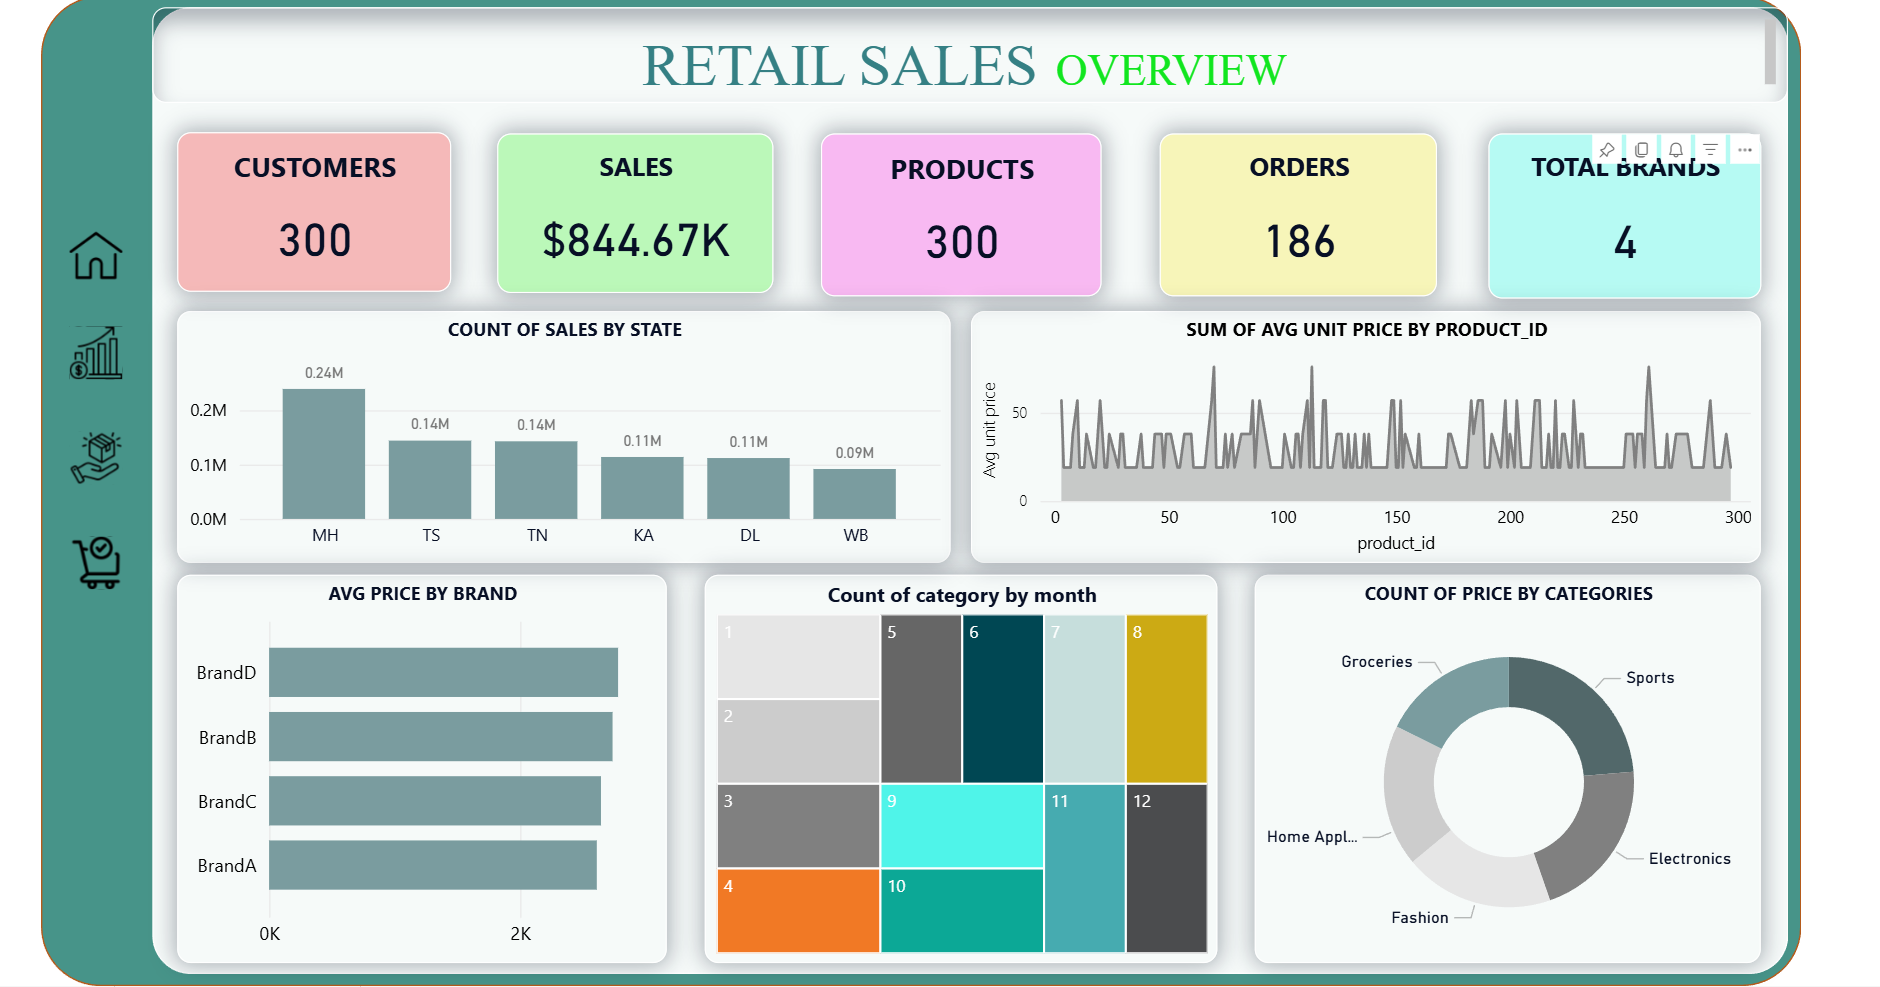

The dashboard page shown, as its layout file describes it:
{"tool":"powerbi","page":{"name":"Home","canvas":[1280,720],"ordinal":0},"visuals":[{"type":"group","id":"g1","title":"Group 1","box":[0,0,1280.3,720.1],"z":0},{"type":"shape","box":[0,0,1280.3,720.1],"z":0,"group":"g1"},{"type":"shape","box":[80.7,8.6,1189.8,703.1],"z":1000,"group":"g1"},{"type":"textbox","box":[80.7,8.6,1189.8,69.7],"z":1000},{"type":"card","title":"CUSTOMERS","fields":{"Values":["CountNonNull(customers (1).customer_id)"]},"box":[99,99,199.3,116.2],"z":2000},{"type":"actionButton","box":[0,165.1,80.7,46.5],"z":2000,"group":"g1"},{"type":"card","title":"PRODUCTS","fields":{"Values":["CountNonNull(products (1).product_id)"]},"box":[567.4,100.3,204.2,118.6],"z":3000},{"type":"columnChart","title":"COUNT OF SALES BY STATE","fields":{"Category":["customers (1).state"],"Y":["Sum(order_items (1).unit_price)"]},"box":[99,228.7,562.5,183.4],"z":3000,"group":"g1"},{"type":"card","title":"SALES","fields":{"Values":["Sum(order_items (1).unit_price)"]},"box":[331.4,100.3,200.5,116.2],"z":4000},{"type":"actionButton","box":[0,236,80.7,46.5],"z":4000,"group":"g1"},{"type":"card","title":"ORDERS","fields":{"Values":["Count(order_items (1).order_id)"]},"box":[813.2,100.3,201.8,118.6],"z":5000},{"type":"actionButton","box":[0,313,80.7,46.5],"z":5000,"group":"g1"},{"type":"card","title":"TOTAL BRANDS","fields":{"Values":["Count(products (1).brand)"]},"box":[1052.9,100.3,198.1,119.8],"z":6000},{"type":"actionButton","box":[0,388.9,80.7,46.5],"z":6000,"group":"g1"},{"type":"clusteredBarChart","title":"AVG PRICE BY BRAND","fields":{"Category":["products (1).brand"],"Y":["Avg(products (1).price)"]},"box":[99,420.7,355.8,282.5],"z":7000},{"type":"donutChart","title":"COUNT OF PRICE BY CATEGORIES","fields":{"Category":["products (1).category"],"Y":["CountNonNull(products (1).price)"]},"box":[882.9,420.7,368.1,282.5],"z":7000,"group":"g1"},{"type":"lineChart","title":"SUM OF AVG UNIT PRICE BY PRODUCT_ID","fields":{"Category":["order_items (1).product_id"],"Y":["Sum(order_items (1).avg unit price)"]},"box":[676.2,228.7,574.7,183.4],"z":8000,"group":"g1"},{"type":"treemap","fields":{"Group":["sales_targets (1).month"],"Values":["CountNonNull(products (1).category)"]},"box":[483,420.7,373,282.5],"z":8000},{"type":"pageNavigator","box":[4.9,157.7,70.9,286.1],"z":9000,"group":"g1"}]}

Visuals, with their boxes on the page's 1280x720 design canvas (x1, y1, x2, y2). These are canvas units, not pixel positions in the 1880x987 screenshot, which may show the page scaled, cropped or inside an application window:
"Group 1" group: x1=0 y1=0 x2=1280 y2=720
shape: x1=0 y1=0 x2=1280 y2=720
shape: x1=81 y1=9 x2=1270 y2=712
textbox: x1=81 y1=9 x2=1270 y2=78
"CUSTOMERS" card: x1=99 y1=99 x2=298 y2=215
actionButton: x1=0 y1=165 x2=81 y2=212
"PRODUCTS" card: x1=567 y1=100 x2=772 y2=219
"COUNT OF SALES BY STATE" columnChart: x1=99 y1=229 x2=662 y2=412
"SALES" card: x1=331 y1=100 x2=532 y2=216
actionButton: x1=0 y1=236 x2=81 y2=282
"ORDERS" card: x1=813 y1=100 x2=1015 y2=219
actionButton: x1=0 y1=313 x2=81 y2=360
"TOTAL BRANDS" card: x1=1053 y1=100 x2=1251 y2=220
actionButton: x1=0 y1=389 x2=81 y2=435
"AVG PRICE BY BRAND" clusteredBarChart: x1=99 y1=421 x2=455 y2=703
"COUNT OF PRICE BY CATEGORIES" donutChart: x1=883 y1=421 x2=1251 y2=703
"SUM OF AVG UNIT PRICE BY PRODUCT_ID" lineChart: x1=676 y1=229 x2=1251 y2=412
treemap - sales_targets (1).month x CountNonNull(products (1).category): x1=483 y1=421 x2=856 y2=703
pageNavigator: x1=5 y1=158 x2=76 y2=444
